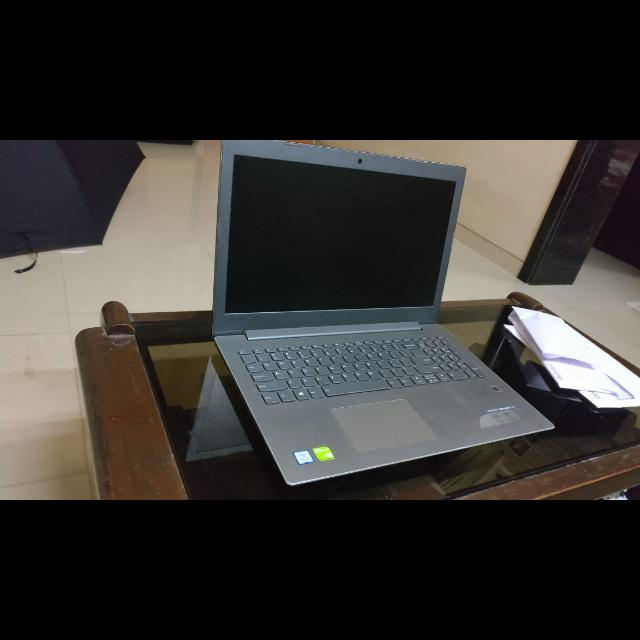Laptop: (207, 142, 565, 492)
